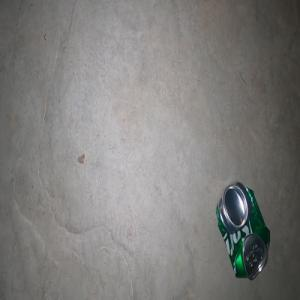SodaCan: (215, 182, 270, 280)
